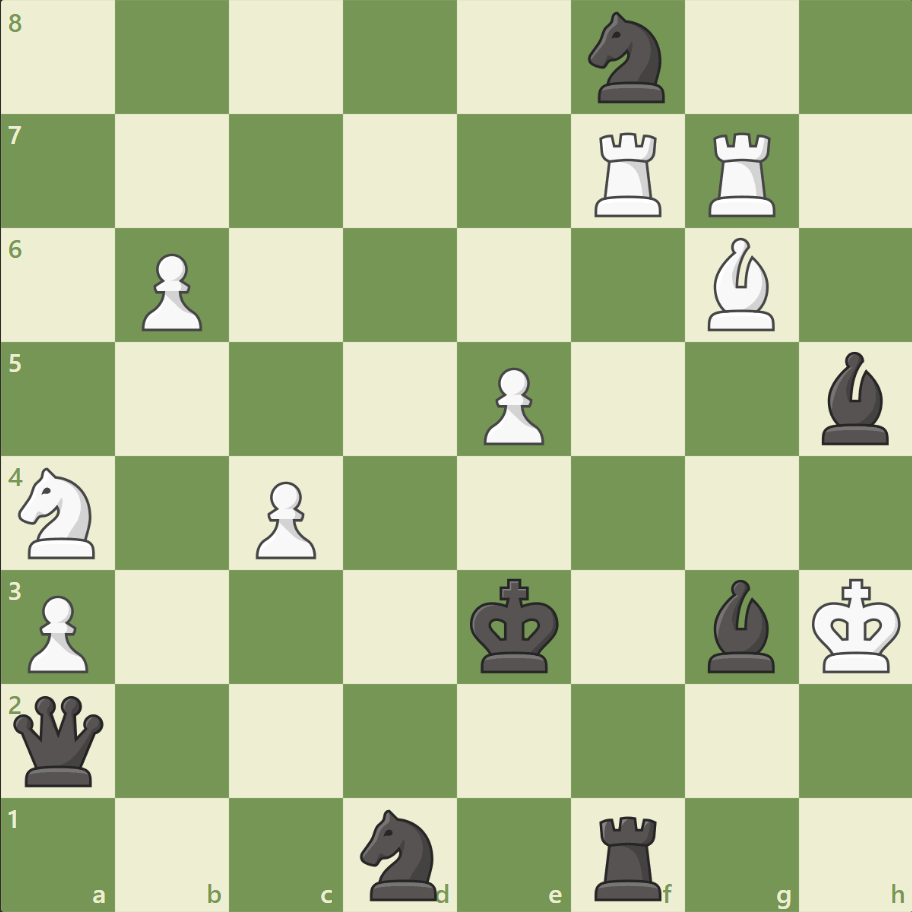B: (698, 233, 782, 336)
K: (806, 571, 906, 679)
N: (11, 461, 108, 564)
P: (133, 246, 208, 337), (474, 359, 549, 450), (247, 473, 322, 564), (20, 586, 95, 677)
R: (587, 125, 670, 222), (700, 125, 783, 222)
b: (812, 347, 896, 449), (698, 574, 782, 676)
k: (465, 571, 565, 679)
n: (351, 802, 449, 904), (579, 7, 676, 110)
q: (10, 690, 109, 789)
r: (587, 806, 670, 904)
